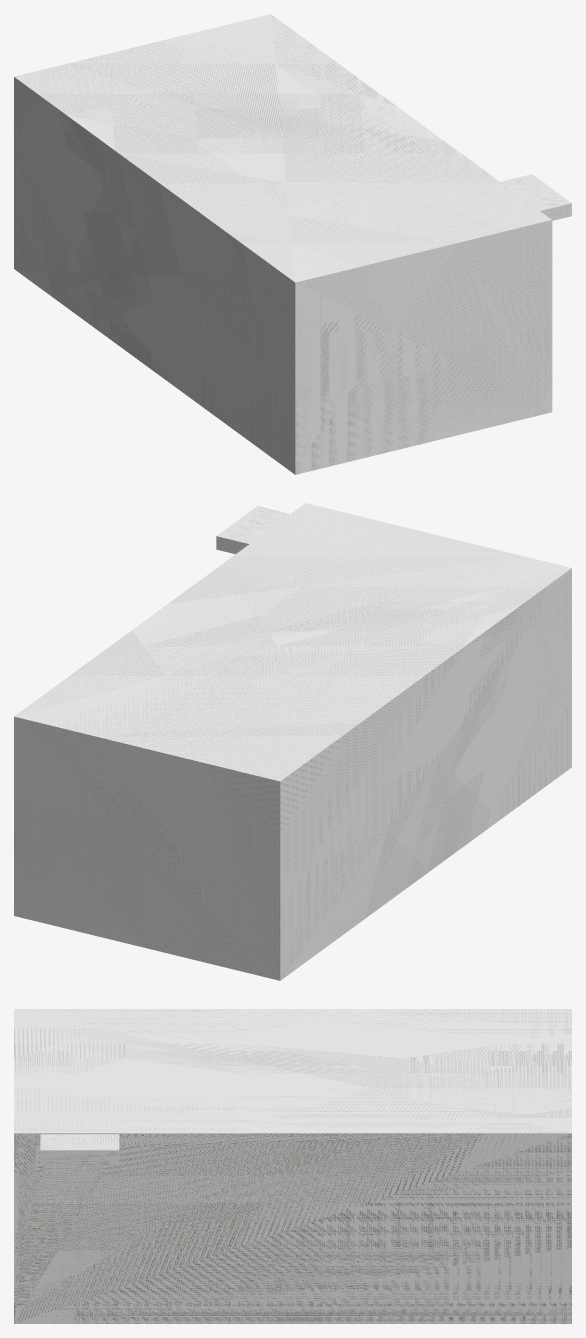
Rendered from cabinet_diamondback1d81d01d0.obj.
3 views of the same model, one above another, from view 1: azimuth 30°, elevation 25°; view 2: azimuth 150°, elevation 25°; view 3: azimuth 270°, elevation 25° (orthographic). The views are drawn at different scales.
Parts seen in each view (by area): view 1: cabinet_diamondback1d81d01d0; view 2: cabinet_diamondback1d81d01d0; view 3: cabinet_diamondback1d81d01d0.
Part boxes in pixels (left/top/right/bottom): cabinet_diamondback1d81d01d0: left=14, top=14, right=571, bottom=474; cabinet_diamondback1d81d01d0: left=14, top=503, right=571, bottom=980; cabinet_diamondback1d81d01d0: left=14, top=1009, right=571, bottom=1323.
Size of the model in its own units: 0.6305 by 0.3995 by 1.06.
4 materials, 3 textured.
